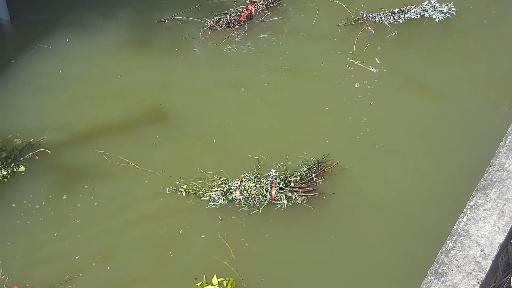twig: (178, 121, 373, 225), (344, 0, 478, 41), (163, 0, 302, 37), (0, 130, 69, 181), (180, 277, 259, 288)
